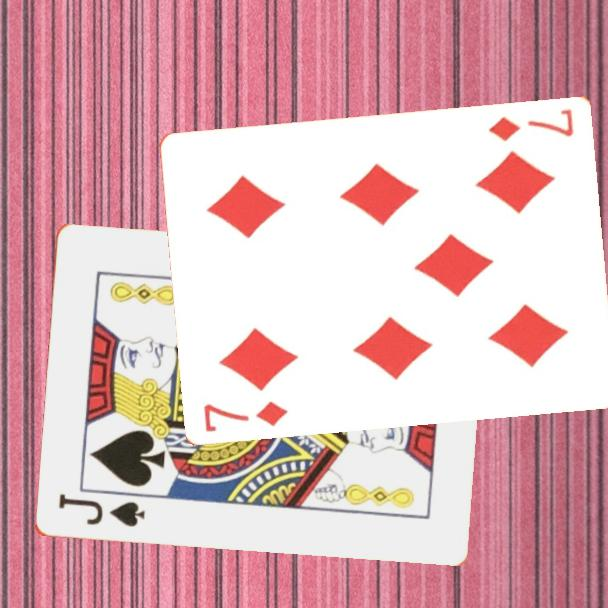d07: (486, 104, 577, 144), (201, 397, 292, 434)
s11: (55, 491, 148, 530)
